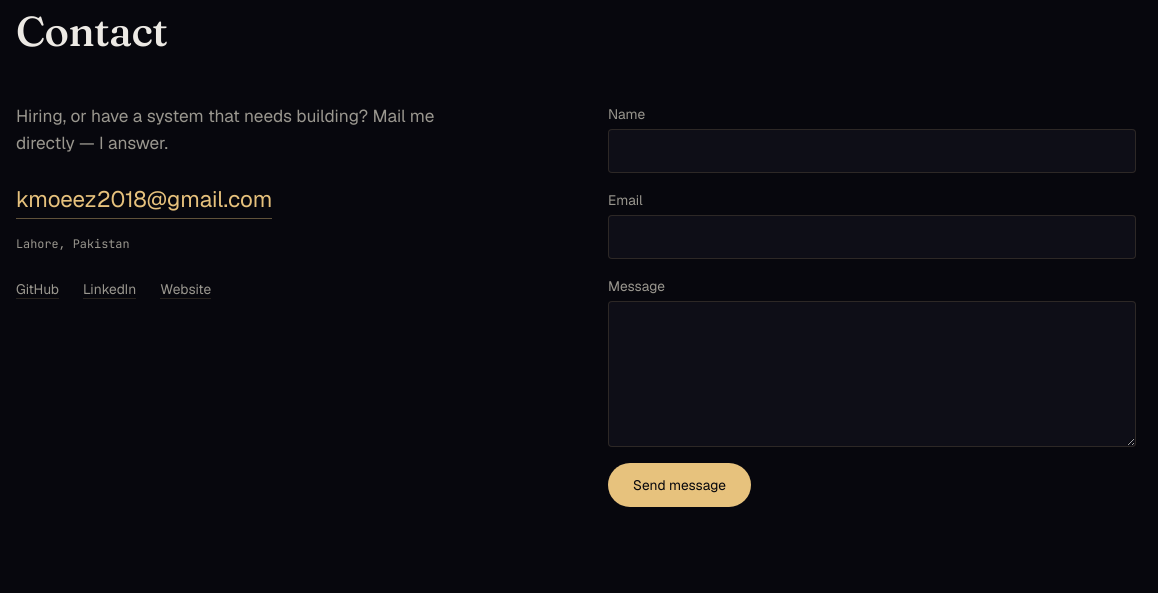
Contact › reports field errors instead of submitting an empty form
Click the button "Send message": (679, 485) top-left (608, 463), bottom-right (751, 507)
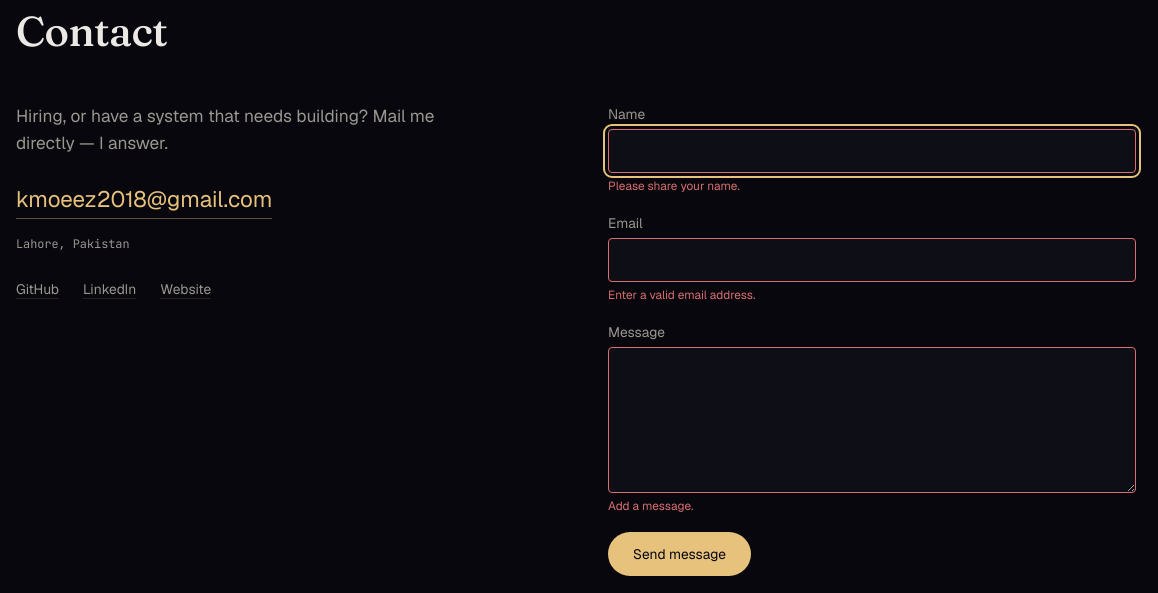
Check: the text "Please share your name." is shown, box top-left (608, 178), bottom-right (740, 193)
